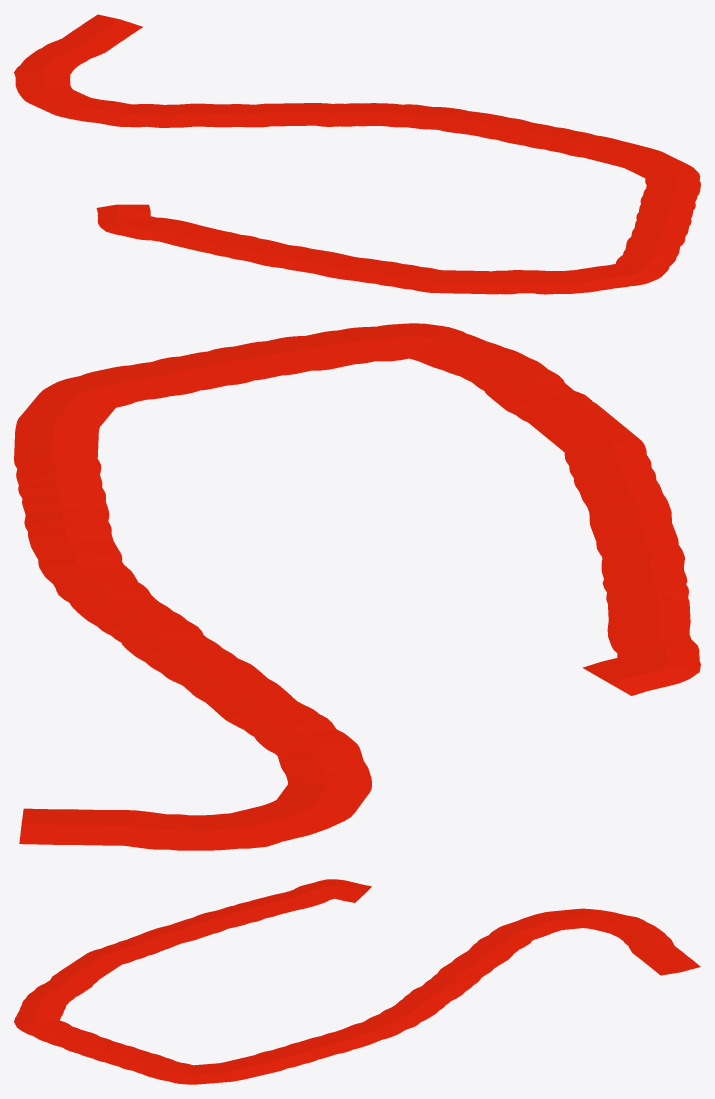
3 renders of one model, top to bottom at view 1: azimuth 30°, elevation 25°; view 2: azimuth 150°, elevation 25°; view 3: azimuth 270°, elevation 25°, orthographic. The views are drawn at different scales.
Parts seen in each view (by area): view 1: GP_Layer; view 2: GP_Layer; view 3: GP_Layer.
Boxes of the visible parts, box(x1,y1,x2,y2) form: GP_Layer: box(14, 14, 700, 294); GP_Layer: box(14, 323, 700, 850); GP_Layer: box(14, 879, 700, 1084).
Bounding box in the file's own units: 0.1685 × 0.2382 × 0.00081.
